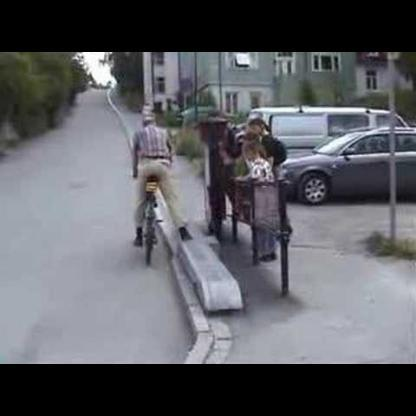Bicycle: (117, 156, 175, 263)
